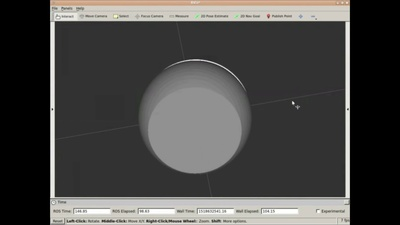mira_robot: (137, 58, 253, 174)
